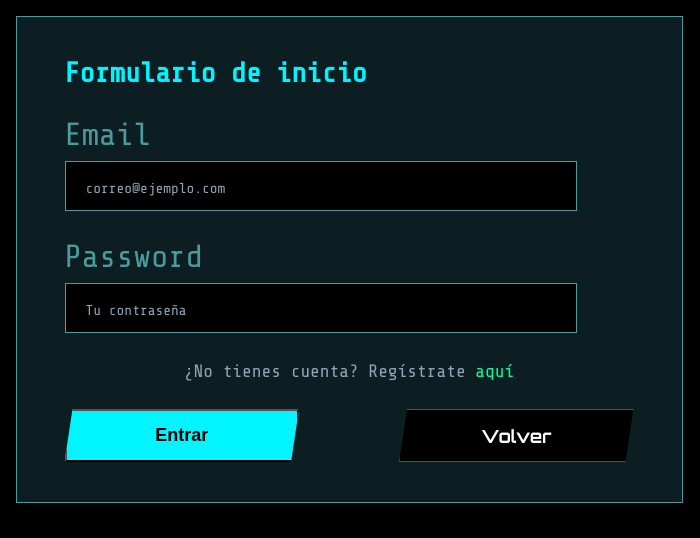
Test: LoginForm › muestra error de contraseña incorrecta en respuesta 401
In the field labelled "Email": x=321, y=186 [64, 161, 577, 211], type "jennifer@test.com"
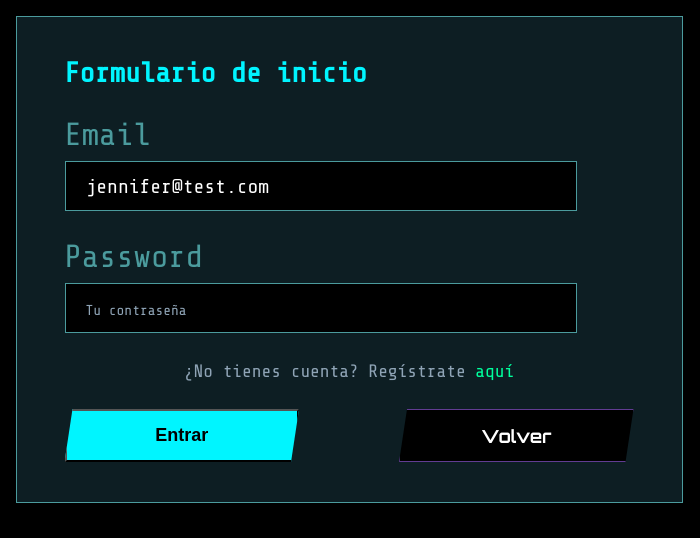
In the password field labelled "Password": x=321, y=308 [64, 283, 577, 333], type "wrongpass"
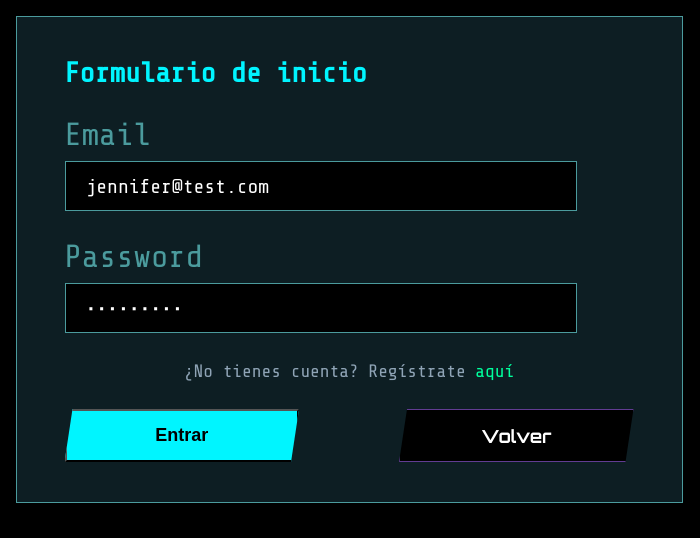
Click the button "Entrar": x=182, y=436 [64, 409, 299, 462]
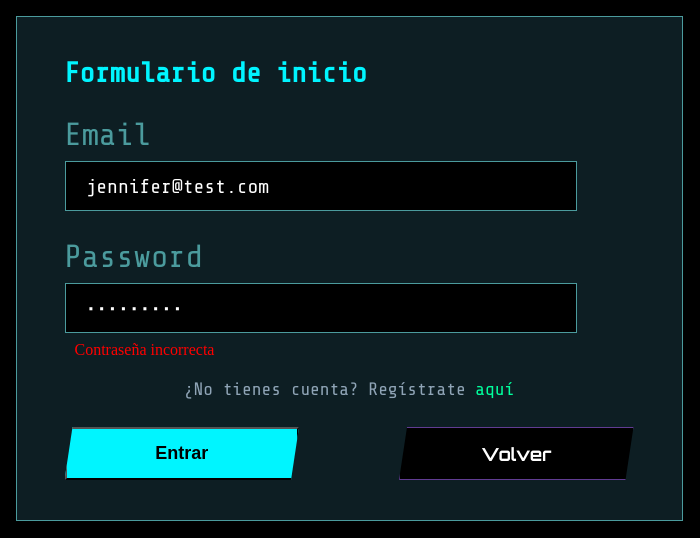
Expected: the text "Contraseña incorrecta" is shown, [74, 341, 214, 358]
